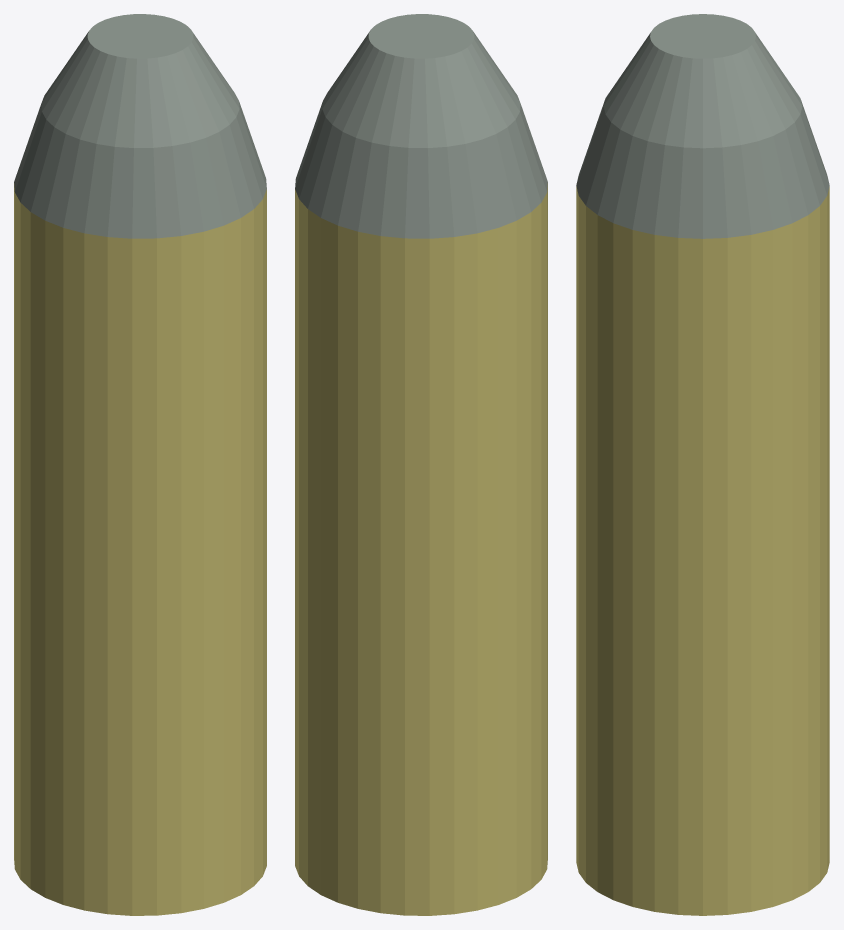
File: 45lcbullets.fbx
3 renders of one model, left to right at view 1: azimuth 30°, elevation 25°; view 2: azimuth 150°, elevation 25°; view 3: azimuth 270°, elevation 25°, orthographic.
Visible parts, largest first — view 1: Cylinder; view 2: Cylinder; view 3: Cylinder.
Boxes of the visible parts, bbox=[...] form: Cylinder: bbox=[14, 14, 266, 915]; Cylinder: bbox=[295, 14, 547, 915]; Cylinder: bbox=[576, 14, 829, 915].
Bounding box in the file's own units: 0.00678 × 0.0244 × 0.00678.
